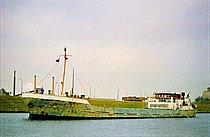Ship: (19, 65, 199, 121)
